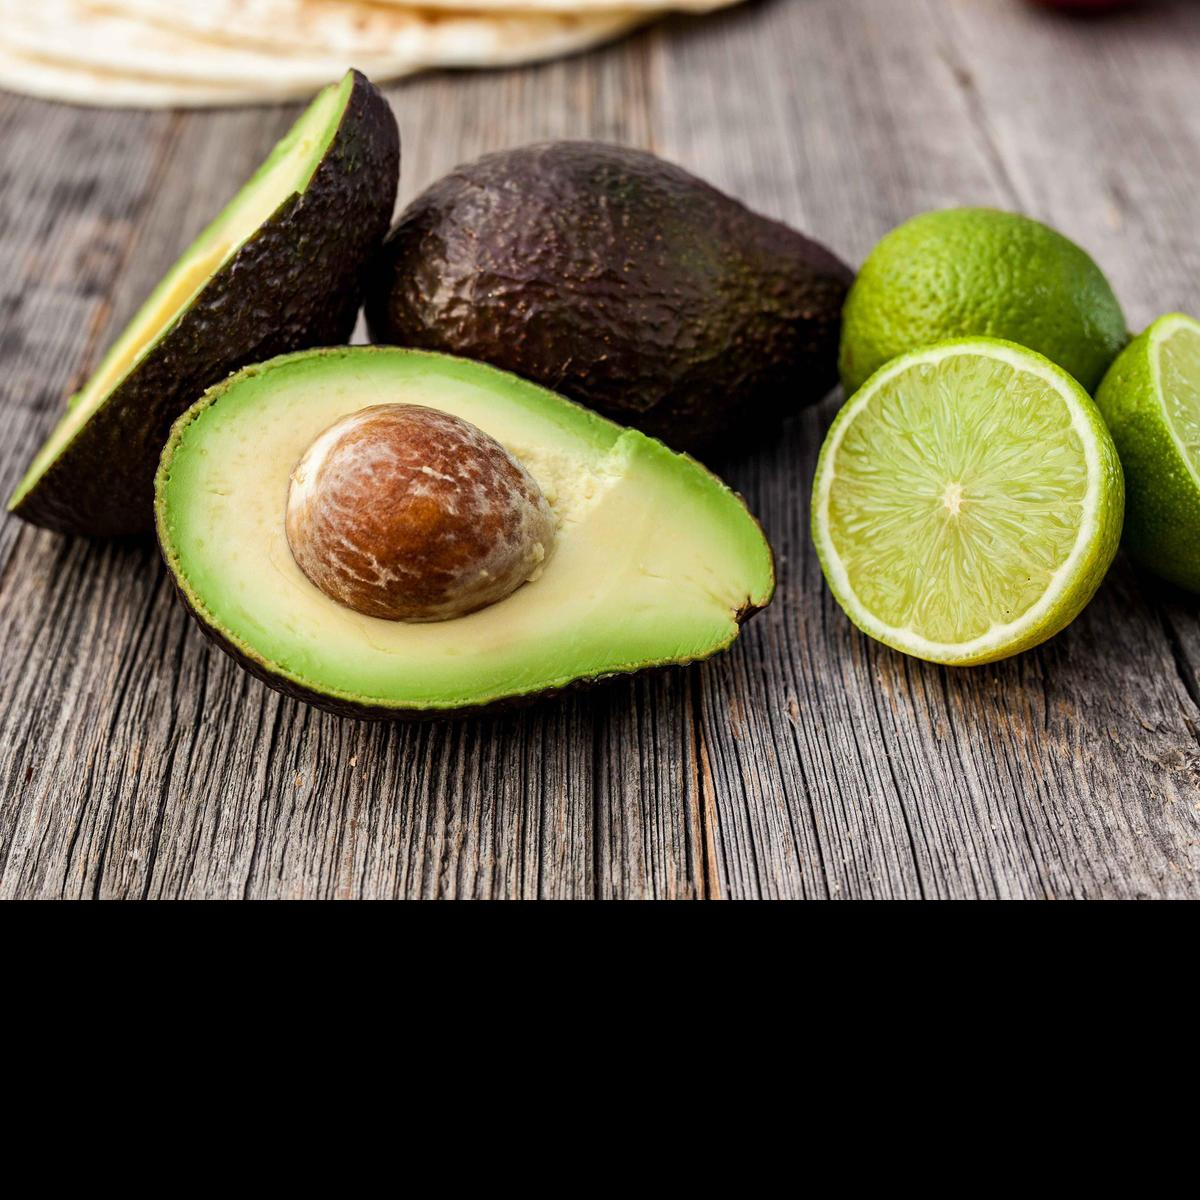ripe: (364, 140, 857, 445)
